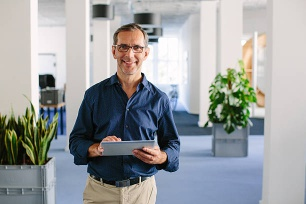male: (110, 22, 150, 77)
